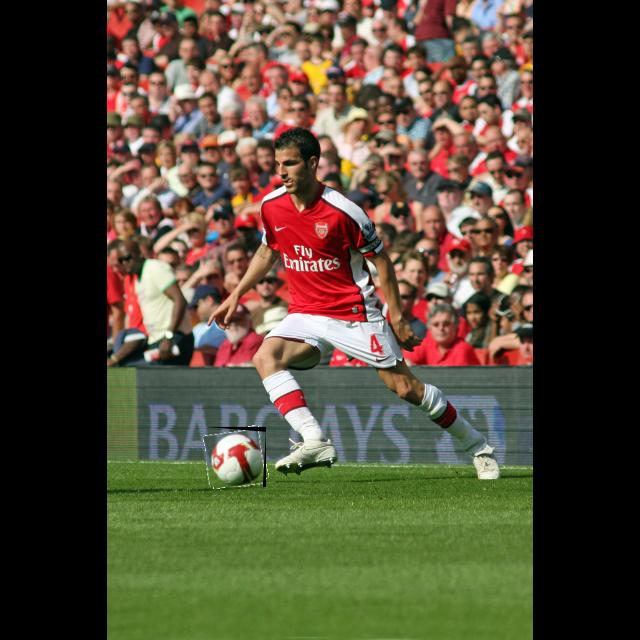Football: (206, 427, 266, 487)
